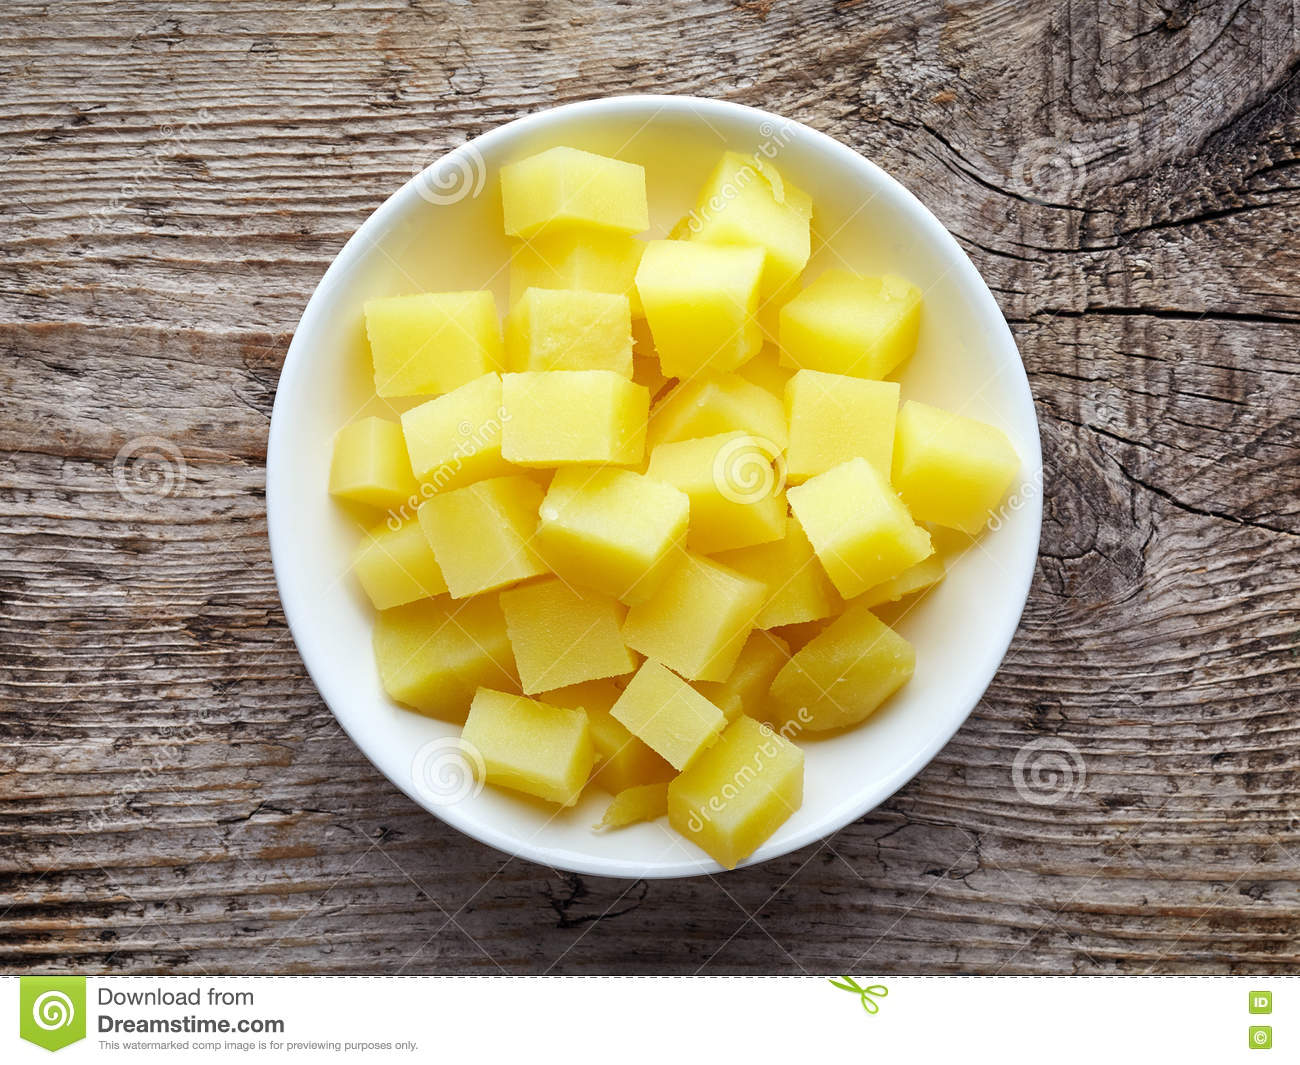boiled potatoes: (362, 152, 962, 841)
